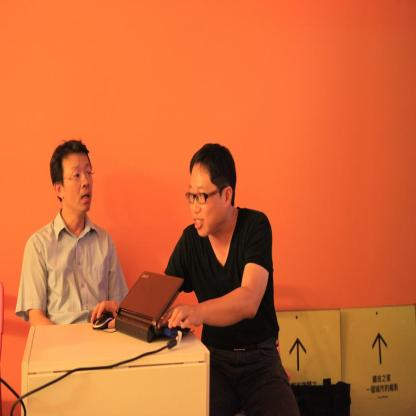board: (114, 269, 190, 341)
